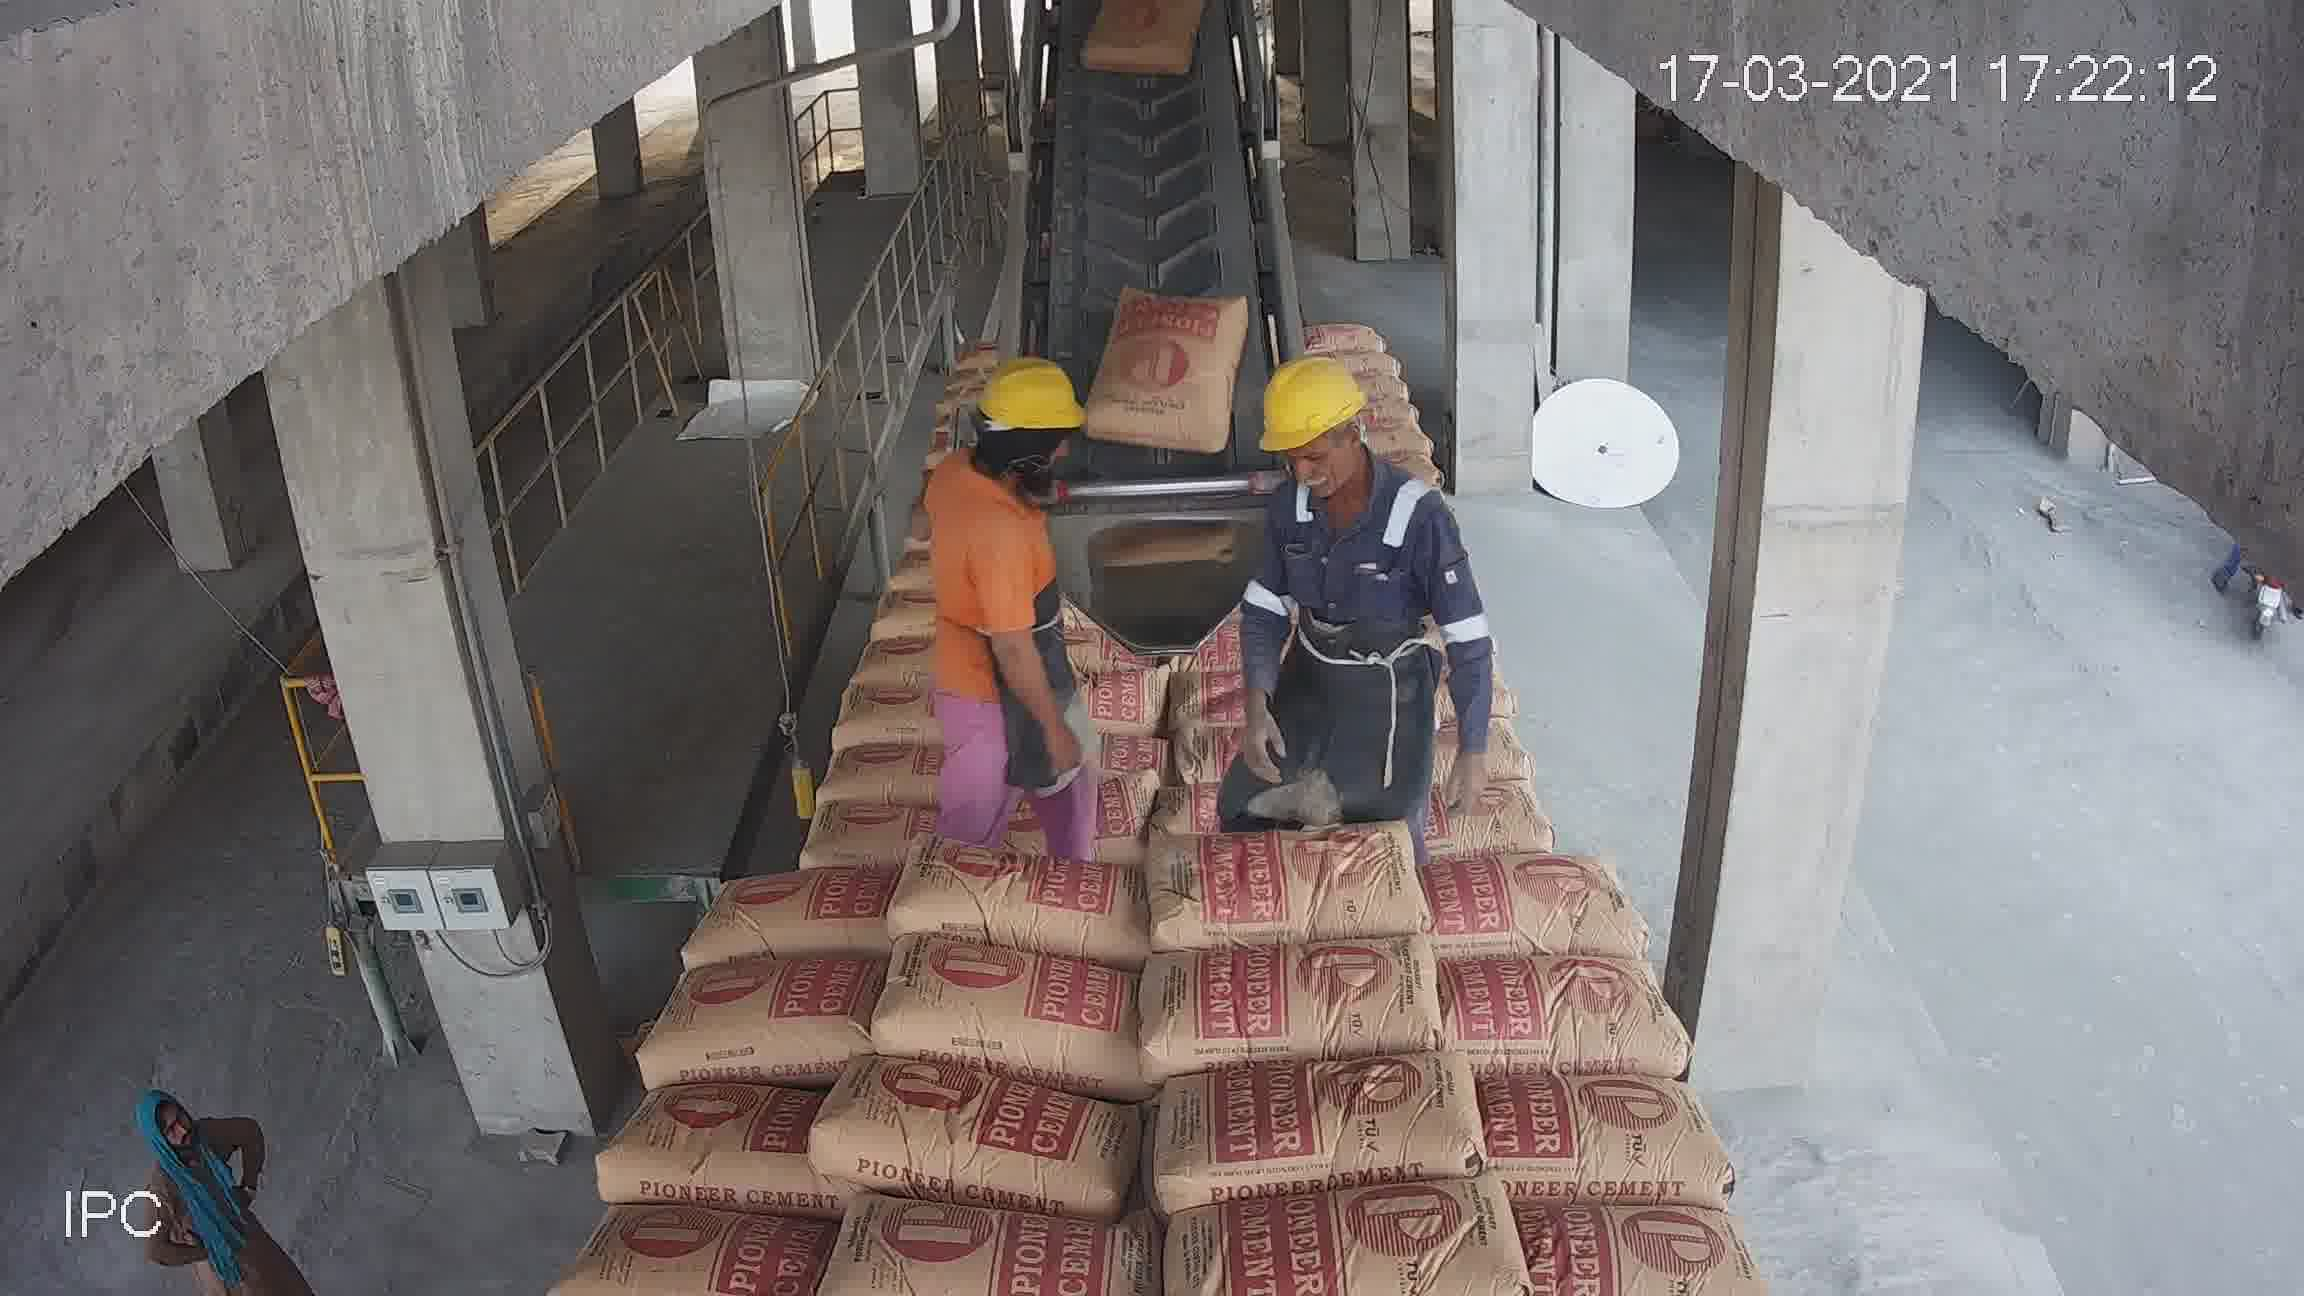bag: (1109, 255, 1241, 408), (1074, 6, 1203, 73)
bag_h: (1146, 1043, 1465, 1215), (810, 1060, 1165, 1201), (1143, 926, 1434, 1073), (1177, 1174, 1525, 1296), (1136, 818, 1416, 949), (1114, 711, 1393, 832), (840, 1187, 1165, 1290), (627, 961, 892, 1074), (1484, 1071, 1720, 1193), (858, 945, 1139, 1044), (593, 1095, 848, 1195), (886, 843, 1131, 945), (1431, 836, 1630, 959), (1543, 1188, 1764, 1296), (1348, 657, 1559, 763), (679, 866, 885, 965), (1386, 753, 1605, 847), (1449, 954, 1665, 1044), (737, 714, 984, 790), (913, 761, 1122, 850), (739, 779, 908, 872), (557, 1233, 791, 1296), (1133, 647, 1282, 733), (1147, 612, 1290, 684), (856, 628, 1003, 680), (1173, 519, 1309, 570), (878, 581, 1003, 628), (1184, 560, 1282, 620), (910, 459, 994, 513), (904, 540, 995, 582), (916, 497, 992, 548)
belt: (1022, 16, 1275, 500)
